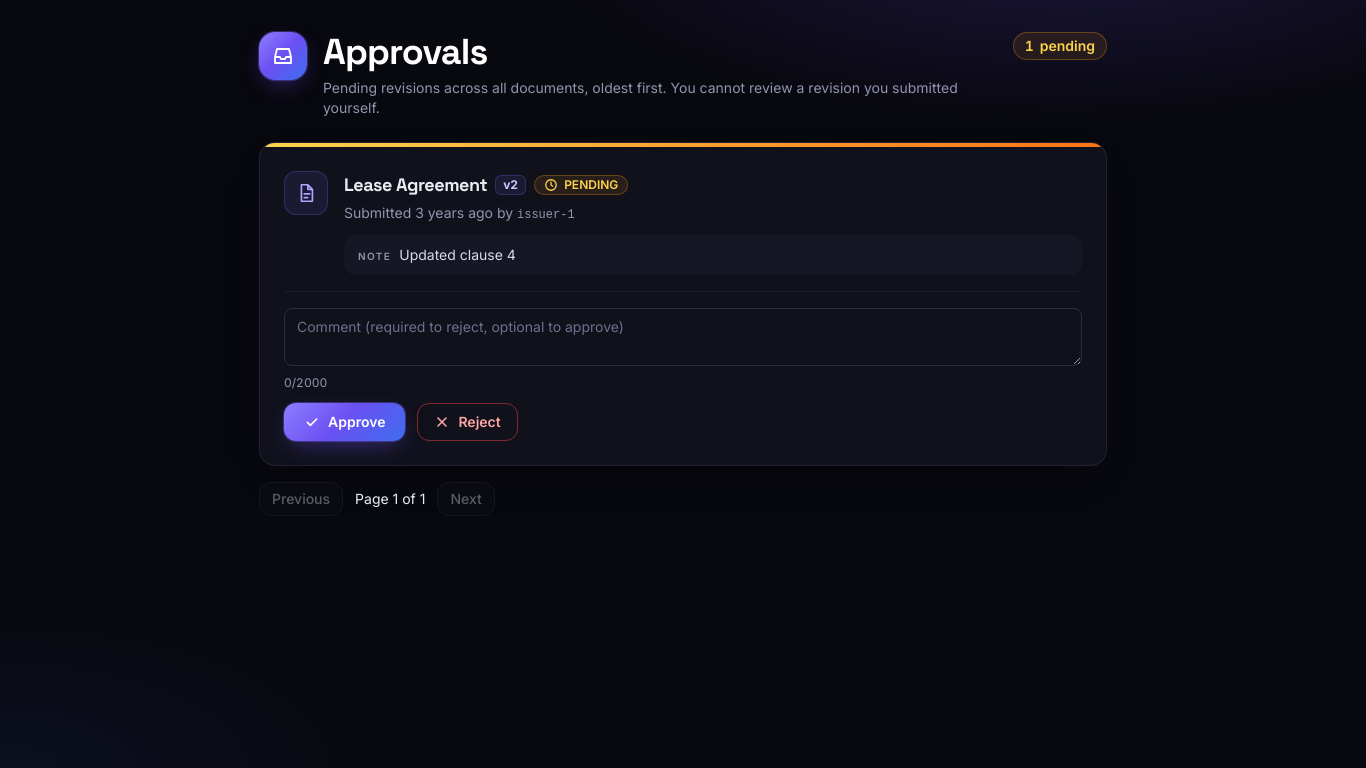
Test: ApprovalsQueue › blocks reject client-side when the comment is blank, sending no request
Click the button "Reject": (468, 422) [417,403,518,441]
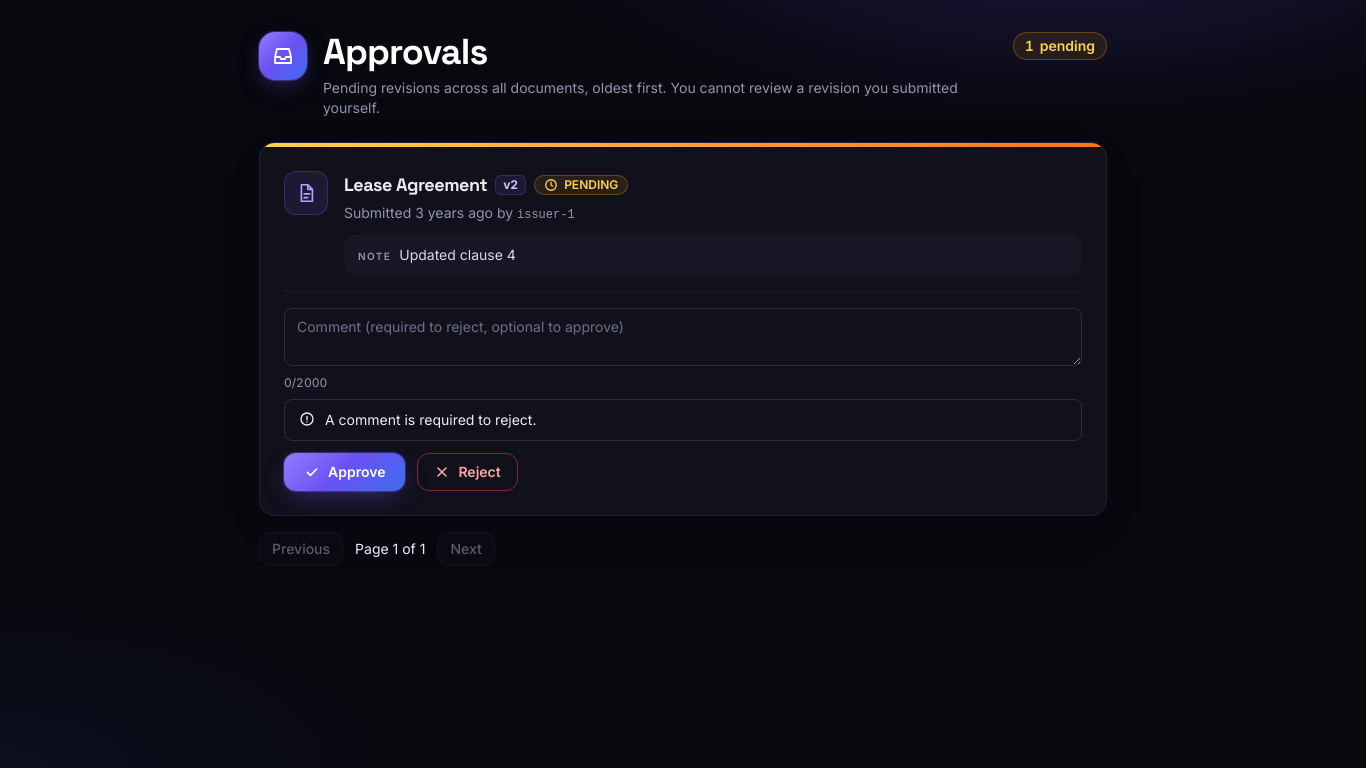
expect the text "A comment is required to reject." is shown: met, box [325,410,536,430]
